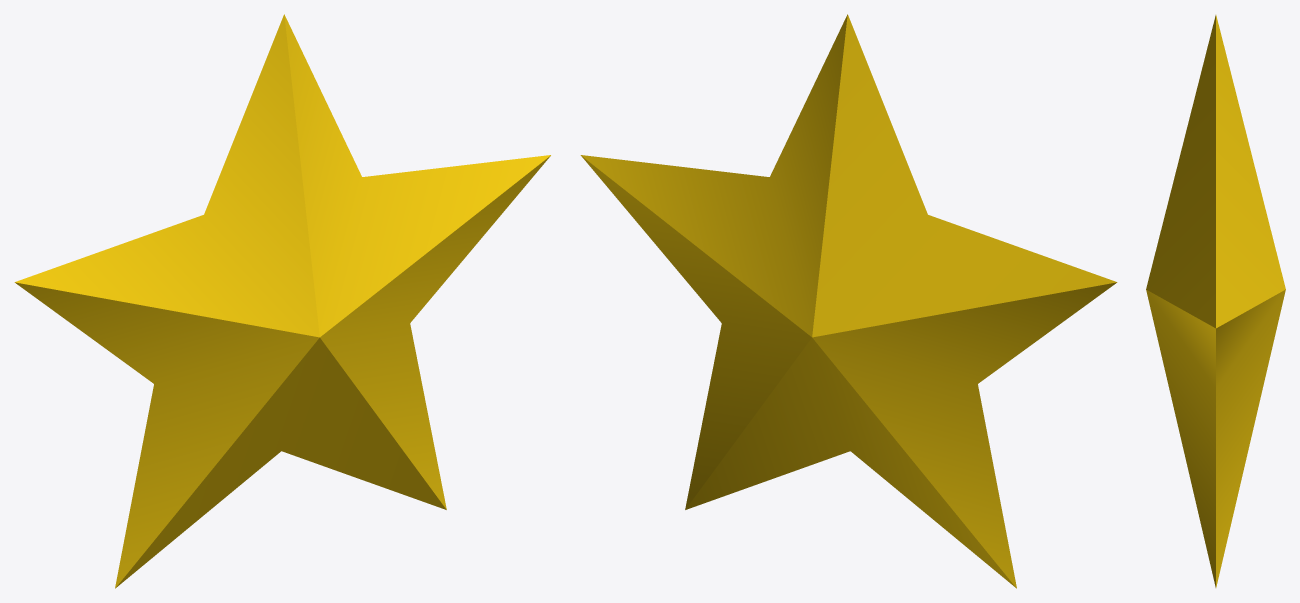
File: Star_01.obj
The picture shows the model from 3 angles, left to right: view 1: azimuth 30°, elevation 25°; view 2: azimuth 150°, elevation 25°; view 3: azimuth 270°, elevation 25°; orthographic projection. The views are drawn at different scales.
Parts seen in each view (by area): view 1: pCylinder3; view 2: pCylinder3; view 3: pCylinder3.
Boxes of the visible parts, x1=… form: pCylinder3: x1=14, y1=14, x2=550, y2=588; pCylinder3: x1=580, y1=14, x2=1117, y2=588; pCylinder3: x1=1146, y1=15, x2=1285, y2=587.
Size of the model in its own units: 0.2035 by 0.194 by 0.0491.
